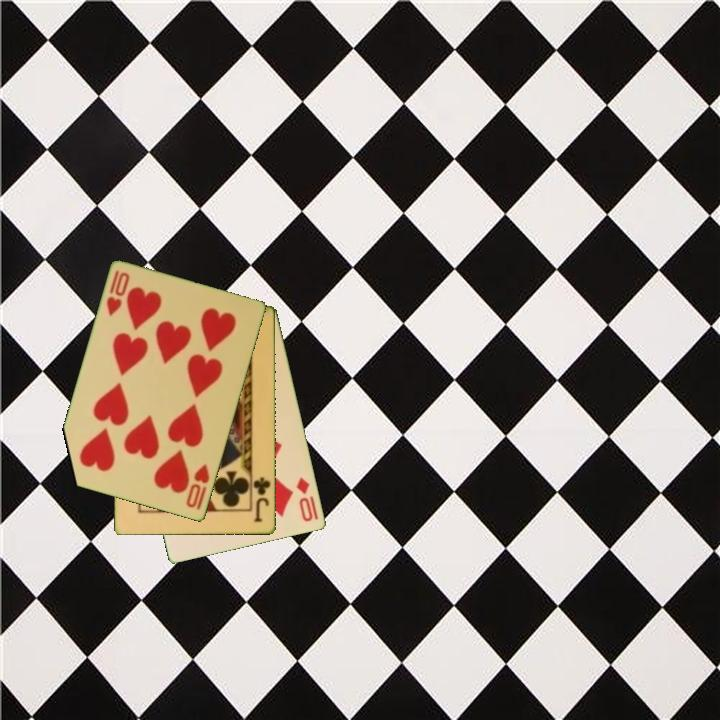10d: (293, 474, 316, 525)
10h: (103, 267, 133, 320), (183, 461, 213, 511)
Jc: (250, 474, 274, 525)
